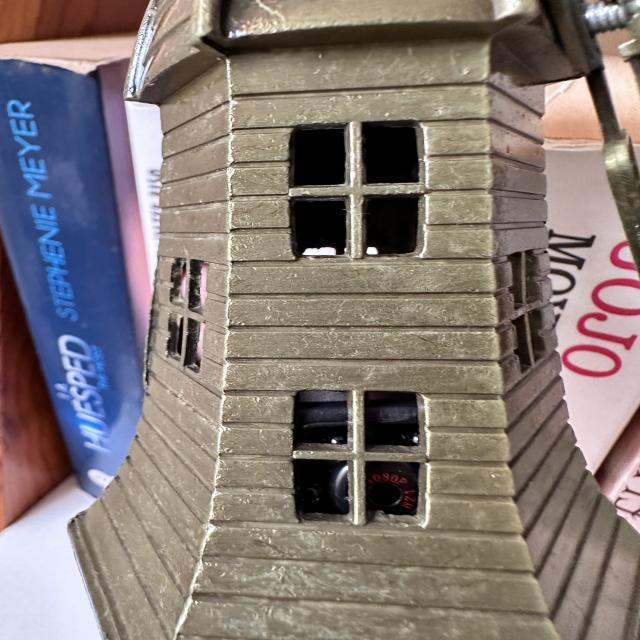hidden camera: (364, 481, 405, 510)
